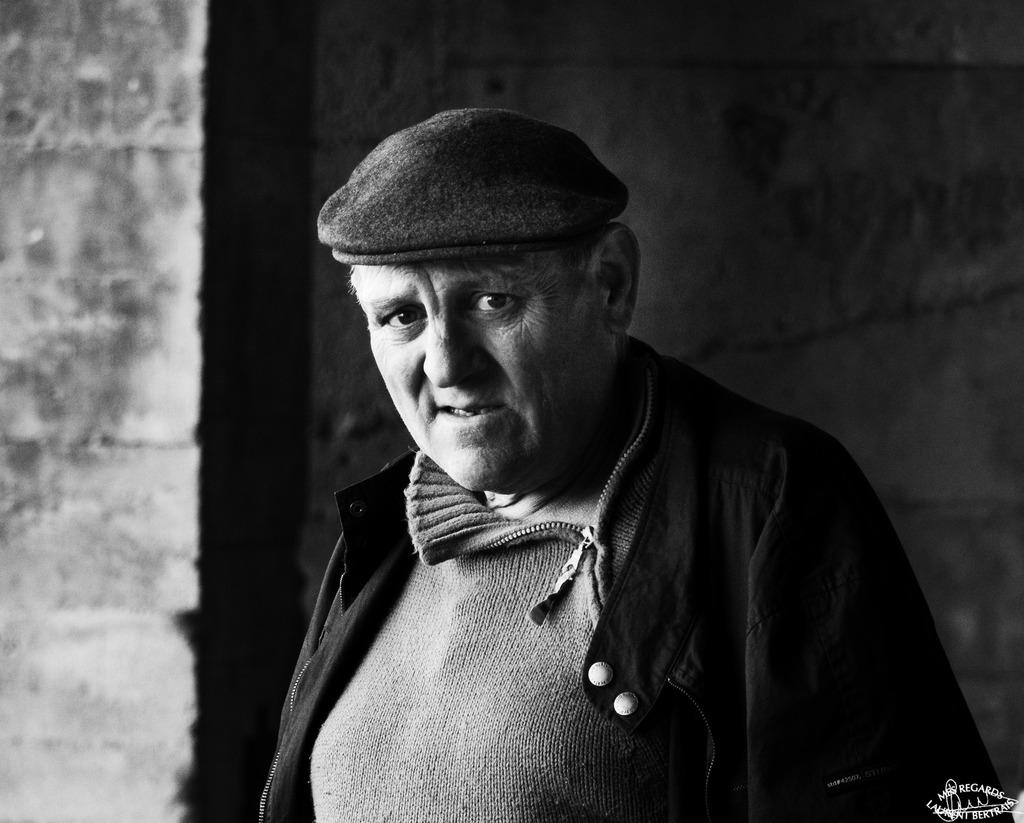Hat: (318, 106, 632, 270)
